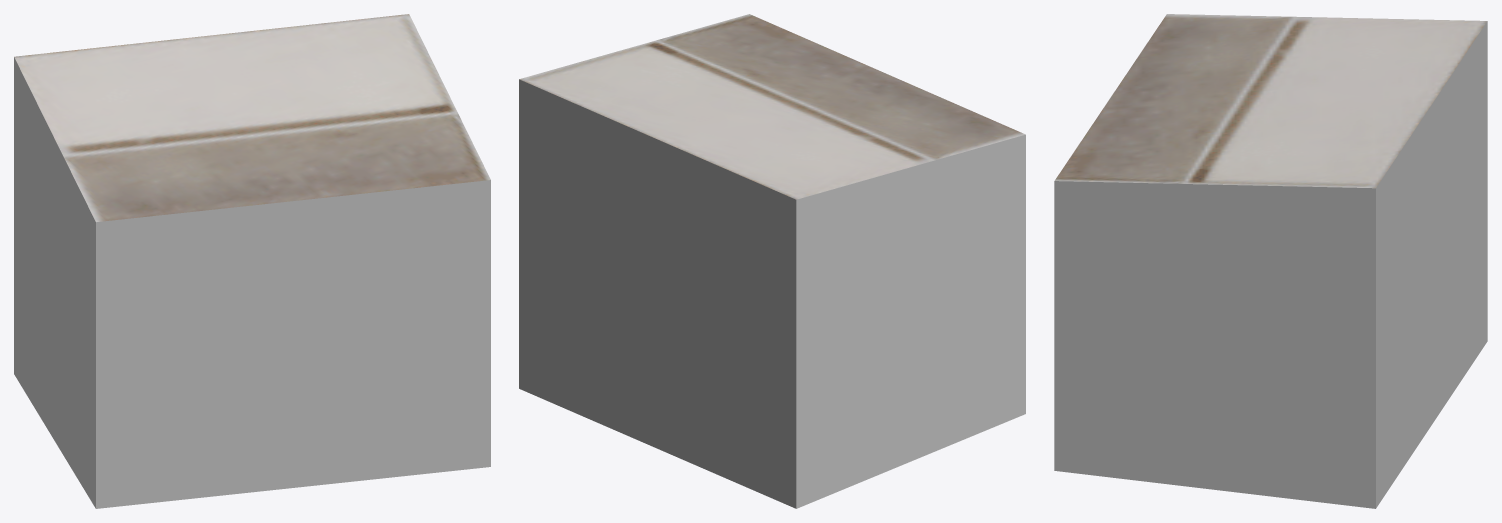
Rendered from DEBW_0010007Tx5L.gltf.
3 renders of one model, left to right at view 1: azimuth 30°, elevation 25°; view 2: azimuth 150°, elevation 25°; view 3: azimuth 270°, elevation 25°, orthographic. The views are drawn at different scales.
Parts seen in each view (by area): view 1: Z_UP; view 2: Z_UP; view 3: Z_UP.
Boxes of the visible parts, bbox=[...] form: Z_UP: bbox=[14, 14, 490, 508]; Z_UP: bbox=[519, 14, 1025, 508]; Z_UP: bbox=[1054, 14, 1487, 508].
Size of the model in its own units: 29.46 by 21.45 by 26.26.
Materials: 2 (1 with a texture image).
